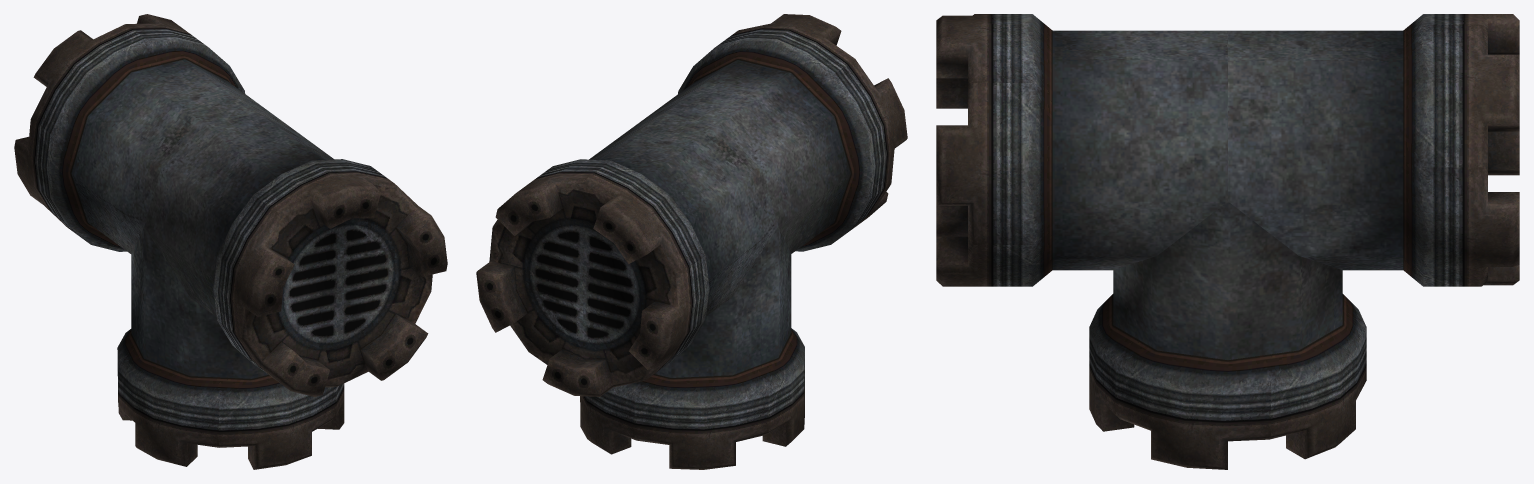
The model's file is tech_brown_3way.dae.
The picture shows the model from 3 angles, left to right: view 1: azimuth 30°, elevation 25°; view 2: azimuth 150°, elevation 25°; view 3: azimuth 270°, elevation 25°; orthographic projection. The views are drawn at different scales.
Parts seen in each view (by area): view 1: polySurface797; view 2: polySurface797; view 3: polySurface797.
Boxes of the visible parts, box(x1,y1,x2,y2) form: polySurface797: box(14, 14, 447, 469); polySurface797: box(476, 14, 907, 469); polySurface797: box(936, 14, 1519, 469).
Size of the model in its own units: 0.4984 by 0.7804 by 1.06.
1 material, 1 textured.
